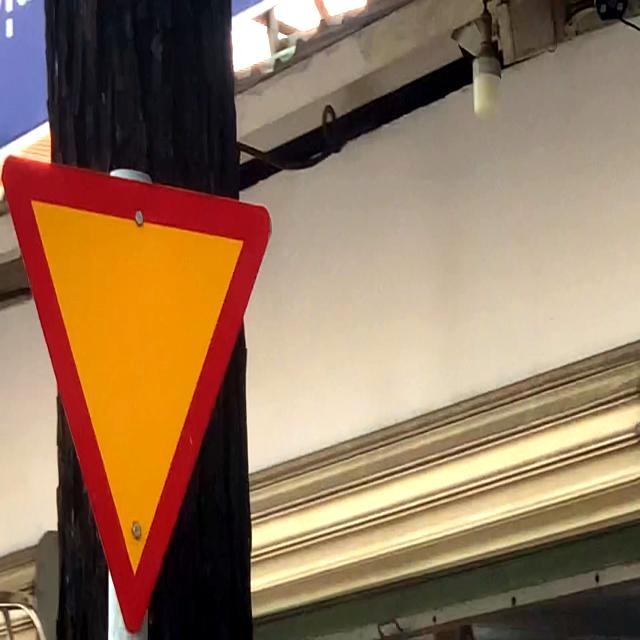Giao nhau voi duong uu tien: (0, 140, 276, 640)
